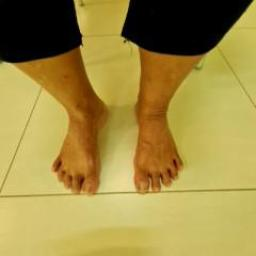Dorsal View -Both Feet-: (18, 69, 210, 209)
